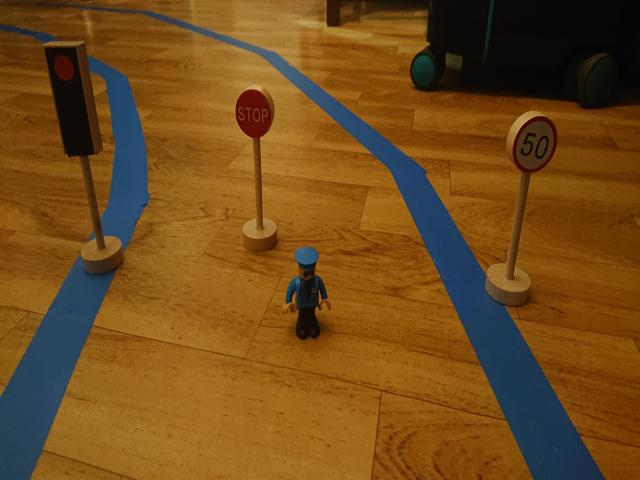50 speed sign: (512, 117, 559, 173)
person: (284, 246, 331, 341)
red light: (50, 50, 81, 153)
stop sign: (234, 89, 273, 138)
